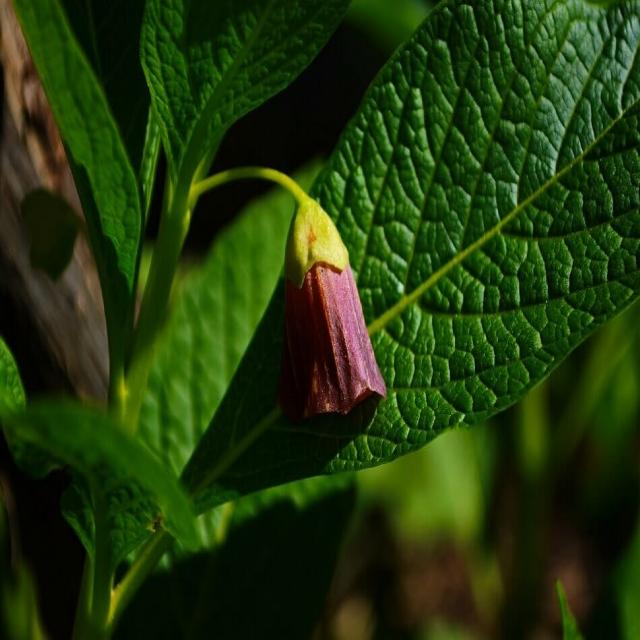Poisonous-Deadly_Nightshade: (358, 0, 640, 422), (246, 170, 397, 444)
